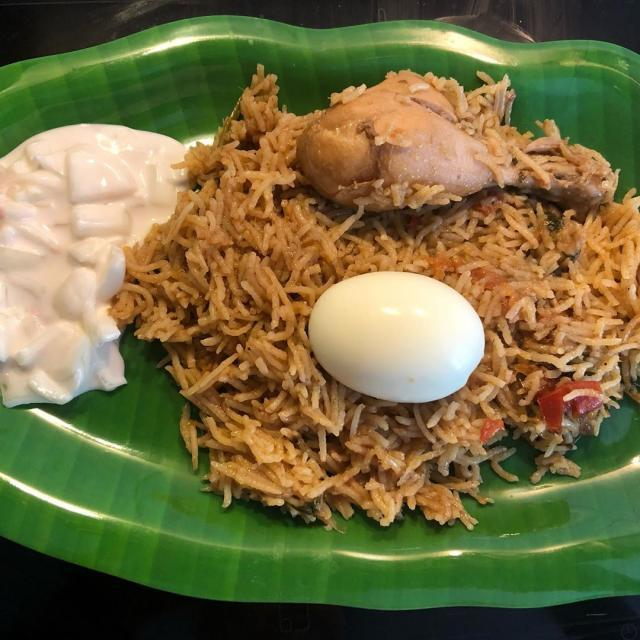biryani: (164, 57, 640, 573)
